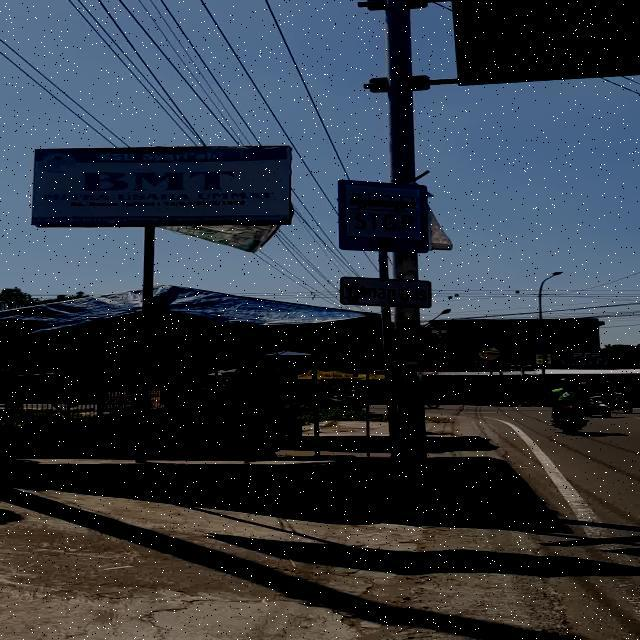Pemberhentian Bus: (337, 179, 429, 254)
